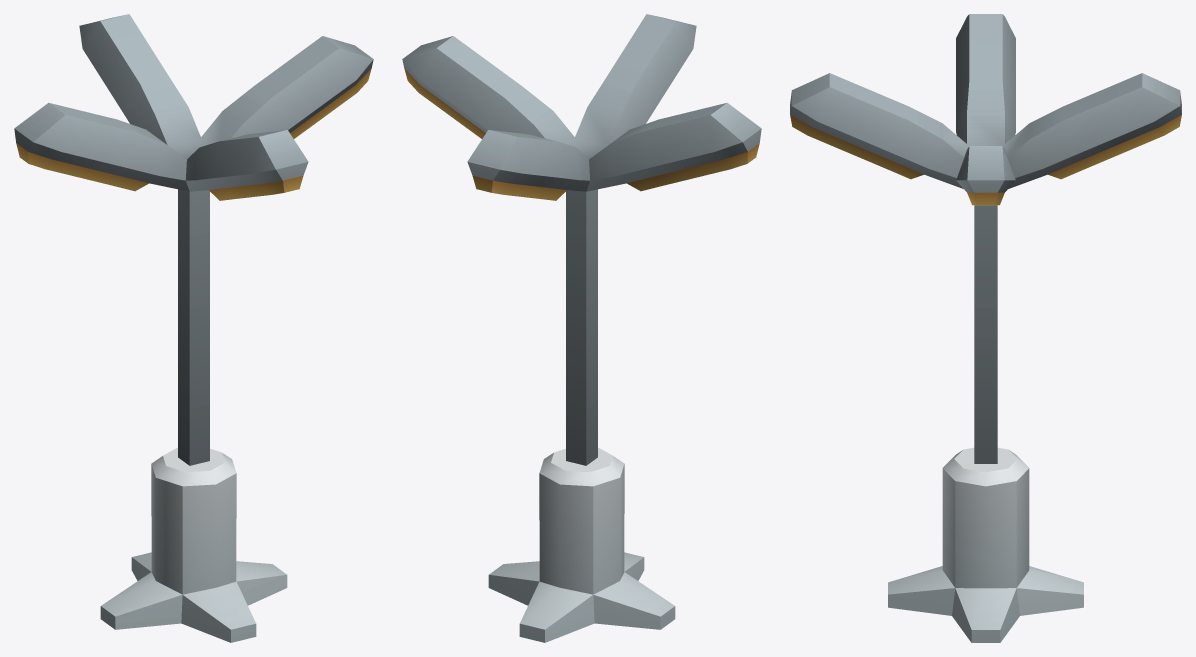
File: kk_lights.glb
The picture shows the model from 3 angles, left to right: view 1: azimuth 30°, elevation 25°; view 2: azimuth 150°, elevation 25°; view 3: azimuth 270°, elevation 25°; orthographic projection.
Visible parts, largest first — view 1: lights; view 2: lights; view 3: lights.
Boxes of the visible parts, x1,y1,x2,y2 form: lights: (14,14,373,642); lights: (402,14,761,642); lights: (790,14,1181,642).
Size of the model in its own units: 2.04 by 3 by 2.04.
Materials: 1 (1 with a texture image).
